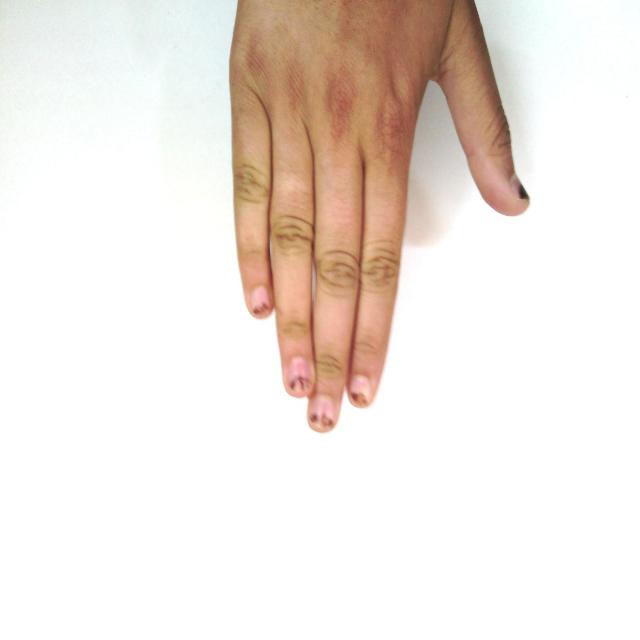others: (152, 1, 556, 440)
